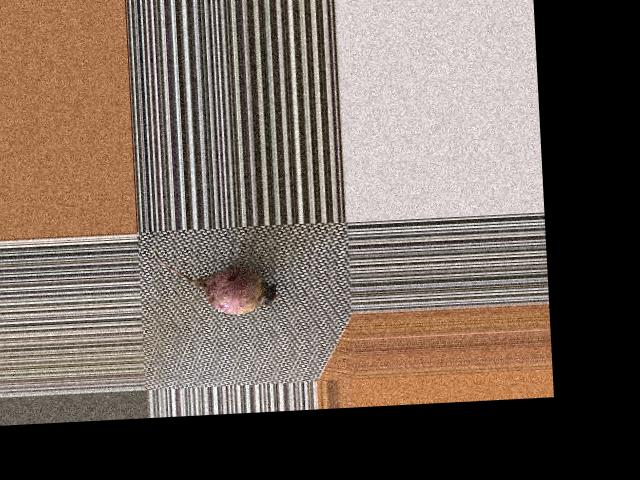beet: (153, 244, 281, 317)
